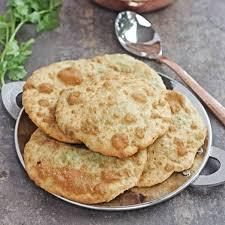Poori: (20, 58, 225, 209)
